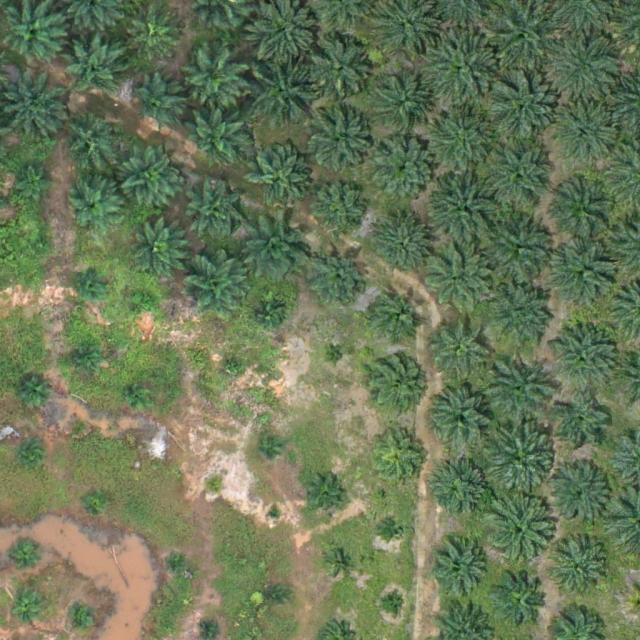Grass: (16, 161, 55, 200), (70, 345, 101, 376), (78, 268, 109, 299), (134, 290, 158, 314), (30, 235, 53, 259)
Healthy: (424, 170, 502, 249), (423, 103, 501, 182), (423, 27, 501, 106), (486, 72, 564, 151), (481, 210, 559, 289), (545, 34, 623, 113), (480, 421, 558, 499), (480, 495, 558, 573), (485, 281, 556, 352), (249, 60, 320, 130), (244, 215, 314, 286), (484, 143, 555, 213), (551, 174, 621, 245), (550, 324, 620, 395), (484, 355, 554, 425), (424, 247, 494, 317), (185, 106, 248, 169), (64, 35, 127, 98), (309, 115, 372, 178), (374, 139, 437, 202), (425, 313, 488, 376), (432, 386, 495, 449), (430, 461, 493, 524), (369, 427, 432, 490), (185, 256, 248, 319), (183, 49, 245, 112), (120, 149, 182, 212), (60, 109, 122, 172), (249, 148, 311, 211), (308, 39, 370, 102), (372, 217, 434, 280), (555, 244, 617, 307), (552, 394, 614, 457), (549, 463, 611, 526), (429, 541, 491, 604), (365, 285, 427, 348), (366, 351, 428, 414), (559, 109, 621, 171), (125, 219, 187, 281), (68, 181, 123, 237), (133, 77, 188, 132), (128, 9, 183, 64), (187, 183, 242, 238), (376, 79, 431, 134), (556, 543, 611, 598), (496, 575, 551, 630), (312, 250, 366, 306), (311, 184, 365, 239)
Small: (303, 477, 343, 517), (17, 379, 48, 411), (11, 541, 42, 573), (253, 299, 284, 331), (14, 593, 45, 624), (264, 585, 288, 609), (128, 384, 152, 408), (223, 357, 247, 381), (324, 345, 348, 369), (203, 475, 227, 499), (385, 519, 409, 543), (72, 608, 95, 632), (381, 592, 404, 616), (330, 550, 353, 574), (256, 437, 279, 461), (66, 413, 89, 437), (20, 444, 43, 467), (86, 490, 109, 513), (168, 551, 191, 574), (267, 506, 283, 522)
